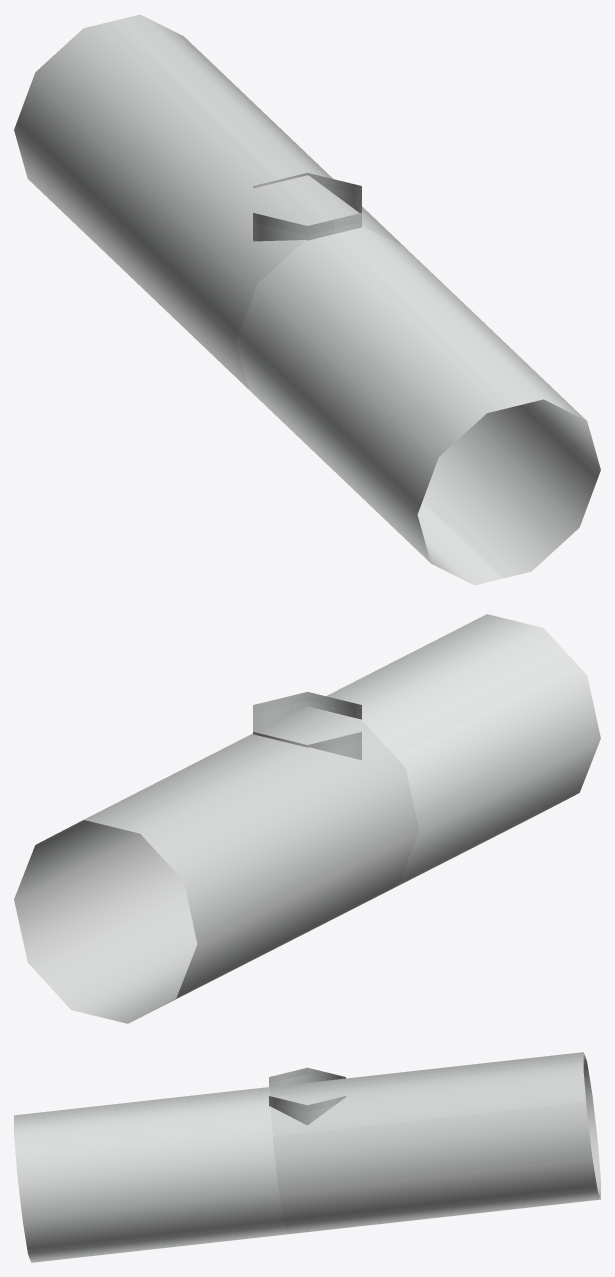
The model's file is trusssignalarm_level10_c8.obj.
3 renders of one model, top to bottom at view 1: azimuth 30°, elevation 25°; view 2: azimuth 150°, elevation 25°; view 3: azimuth 270°, elevation 25°, orthographic. The views are drawn at different scales.
Visible parts, largest first — view 1: trusssignalarm_level10_c8; view 2: trusssignalarm_level10_c8; view 3: trusssignalarm_level10_c8.
Boxes of the visible parts, x1,y1,x2,y2 form: trusssignalarm_level10_c8: (14,14,600,585); trusssignalarm_level10_c8: (14,614,600,1023); trusssignalarm_level10_c8: (14,1052,600,1262).
Bounding box in the file's own units: 0.2625 × 0.3703 × 1.03.
